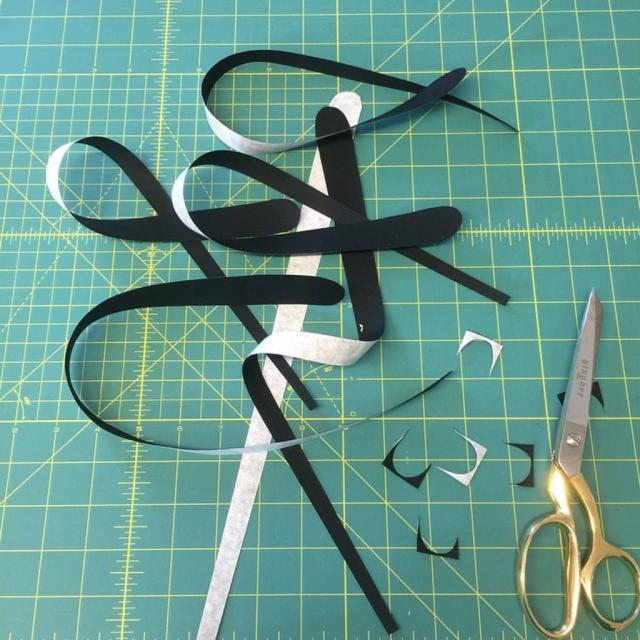scissors: (516, 286, 640, 638)
